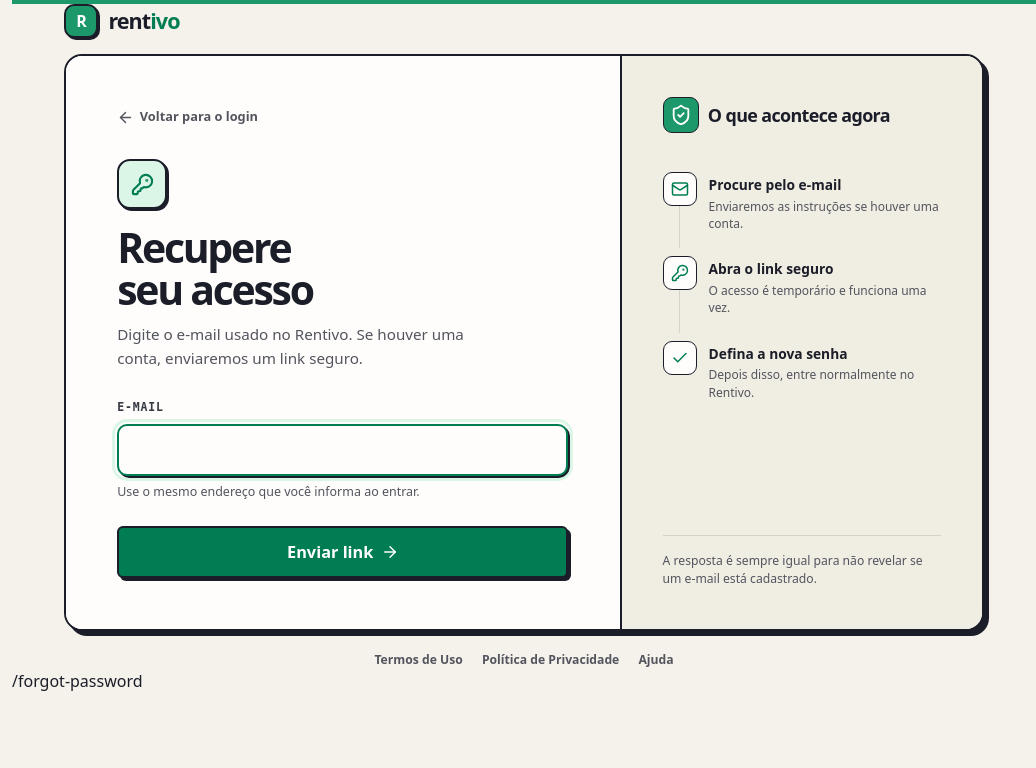
ForgotPasswordPage › announces the pending request and prevents a duplicate submission
Type "user@example.com" into the field labelled "E-mail" at (343, 450), box [117, 424, 568, 476]
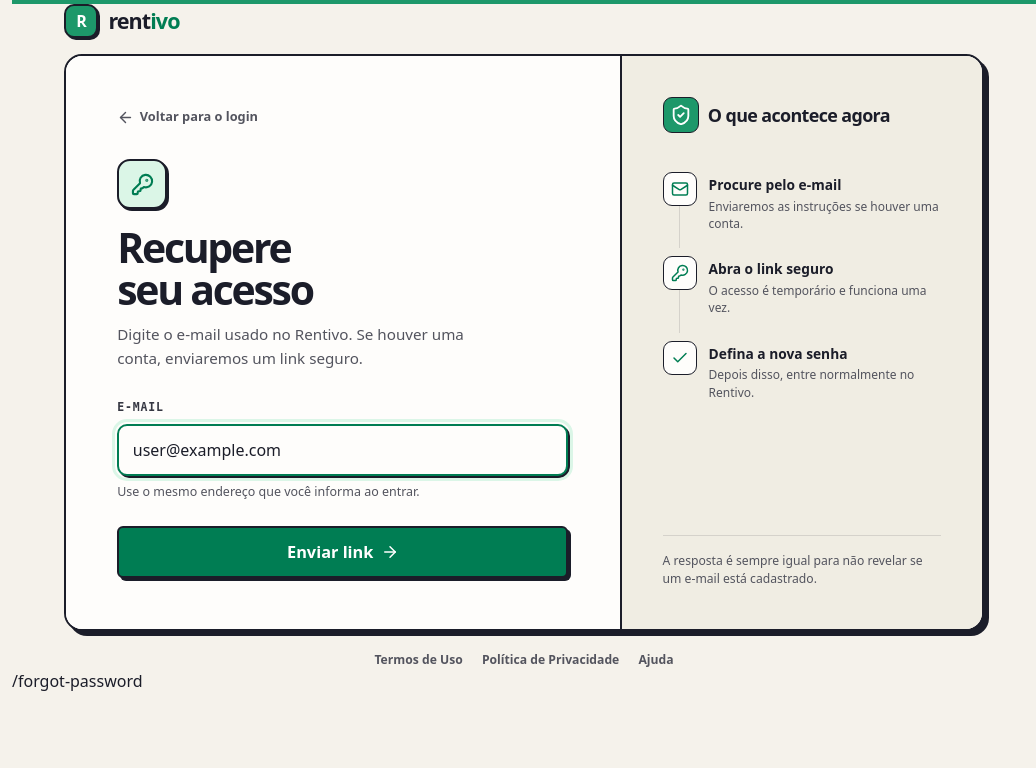
Click the button "Enviar link" at (343, 552), box [117, 526, 568, 578]
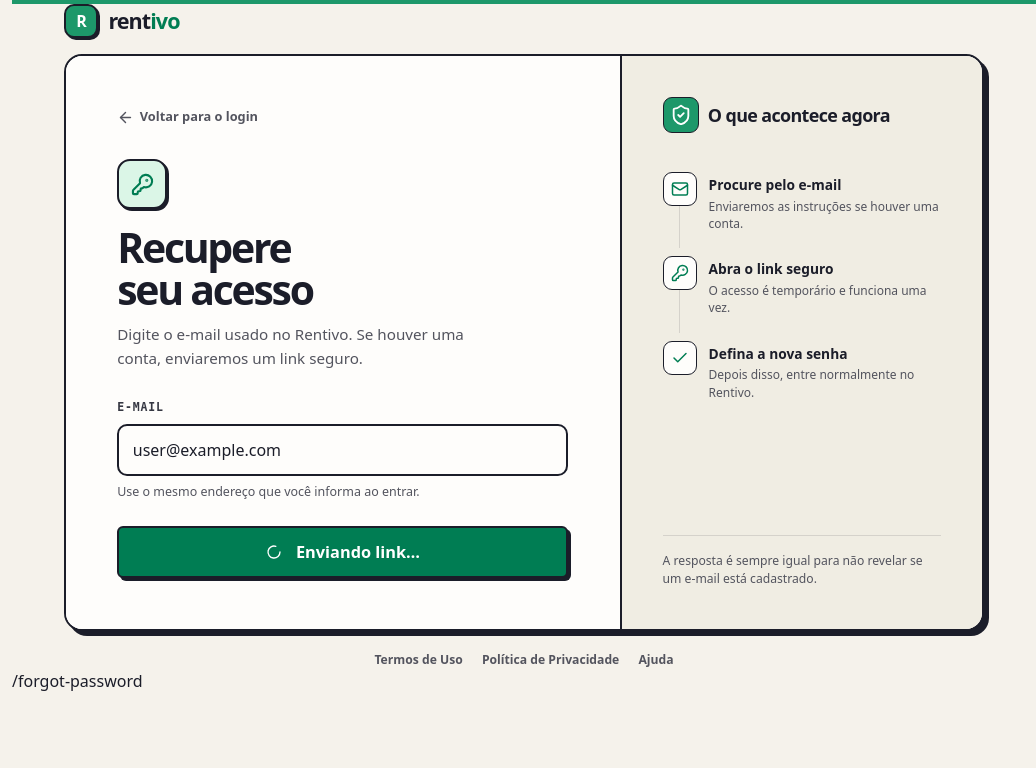
Expected: the button "Enviando link…" is disabled, [117, 526, 568, 578]
Submit the form "Enviando link…", box [117, 399, 568, 578]
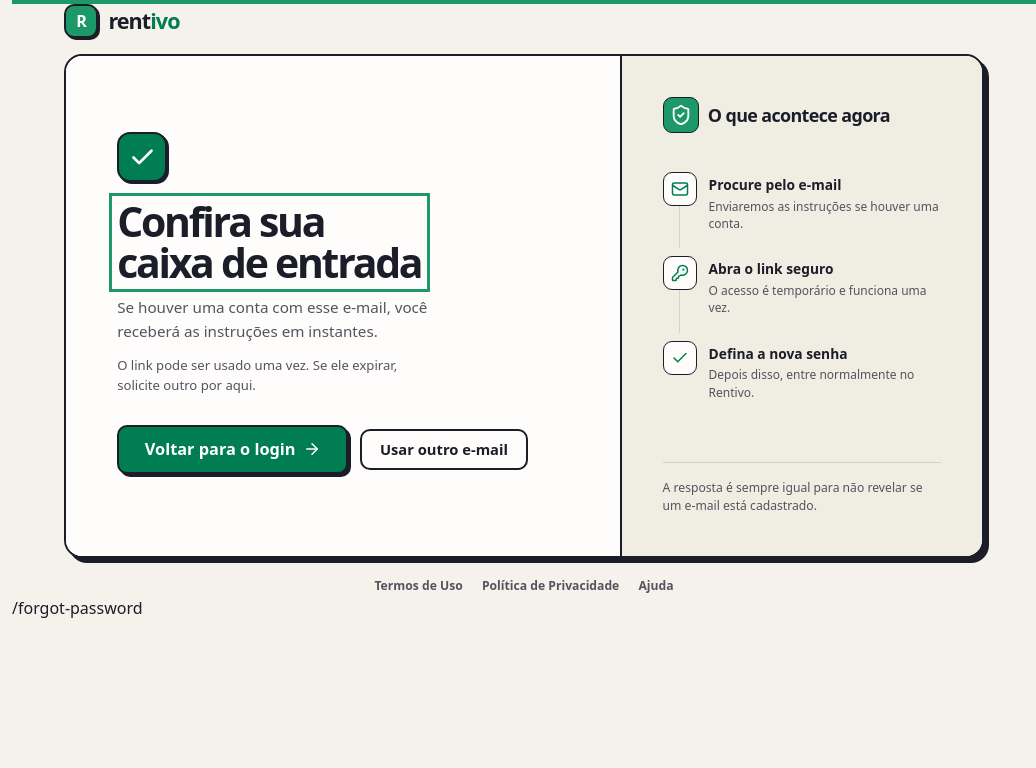
Expected: the heading "Confira sua caixa de entrada" is shown, [117, 201, 422, 284]
